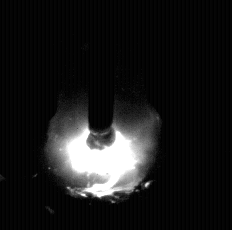arame: (89, 0, 116, 150)
poca: (46, 0, 157, 230)
